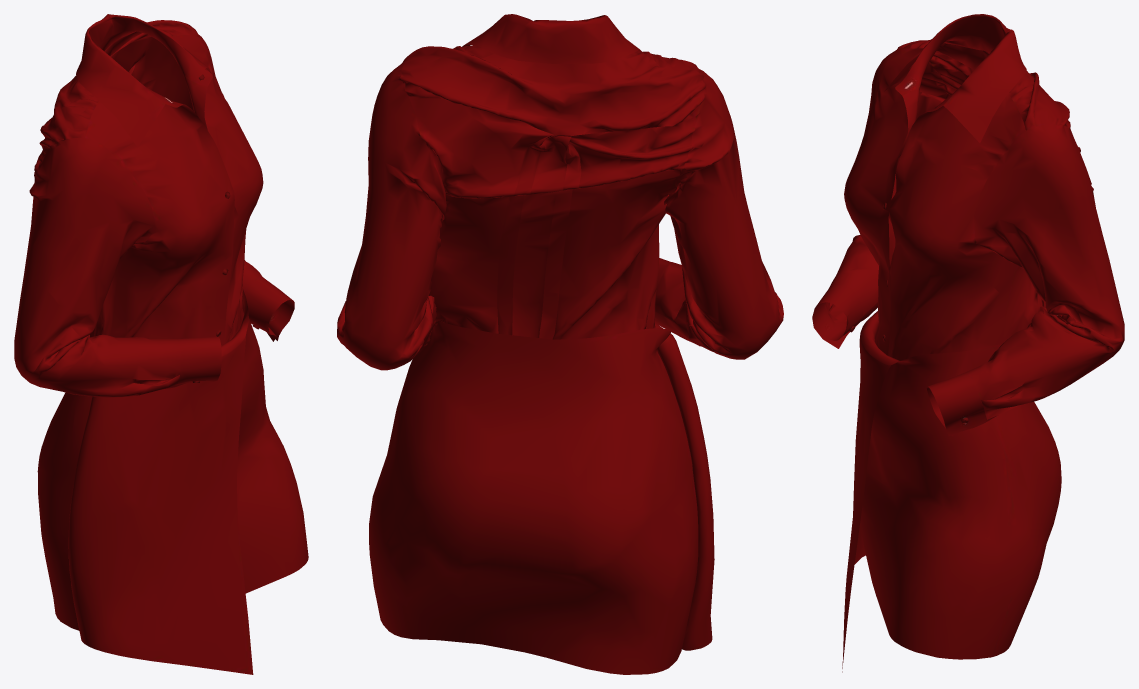
The model's file is dress_blazer.glb.
The picture shows the model from 3 angles, left to right: view 1: azimuth 30°, elevation 25°; view 2: azimuth 150°, elevation 25°; view 3: azimuth 270°, elevation 25°; orthographic projection. The views are drawn at different scales.
Parts seen in each view (by area): view 1: Cloth; view 2: Cloth; view 3: Cloth.
Part boxes in pixels (left/top/right/bottom): Cloth: left=14, top=14, right=308, bottom=674; Cloth: left=337, top=14, right=783, bottom=674; Cloth: left=812, top=14, right=1124, bottom=672.
Size of the model in its own units: 47.09 by 90.35 by 41.54.
Materials: 1 (1 with a texture image).
